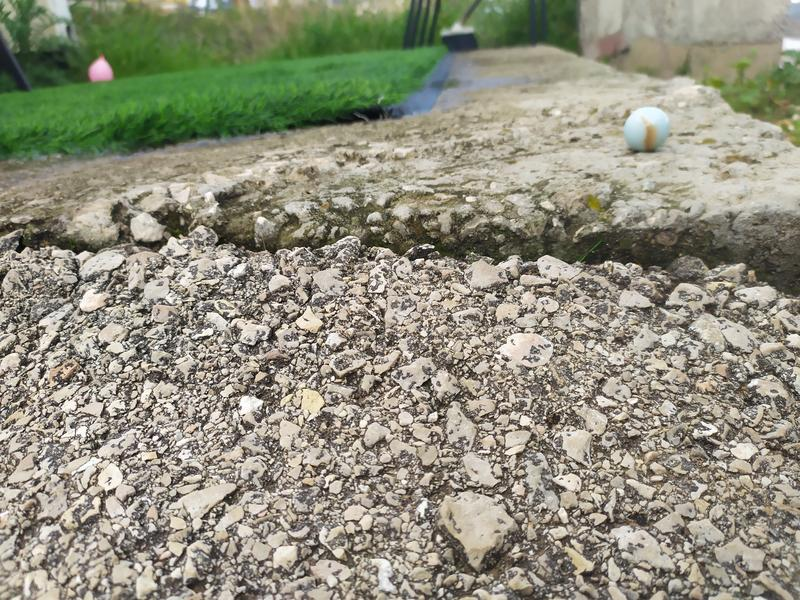Warning: (621, 104, 673, 154)
